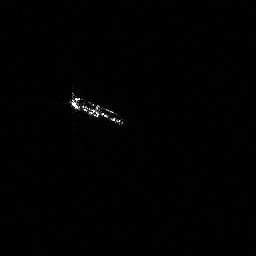ship: (68, 91, 126, 125)
